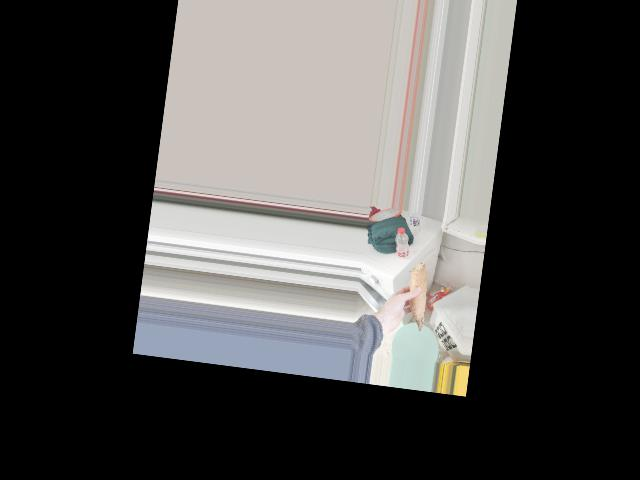sweet_potato: (402, 258, 428, 327)
